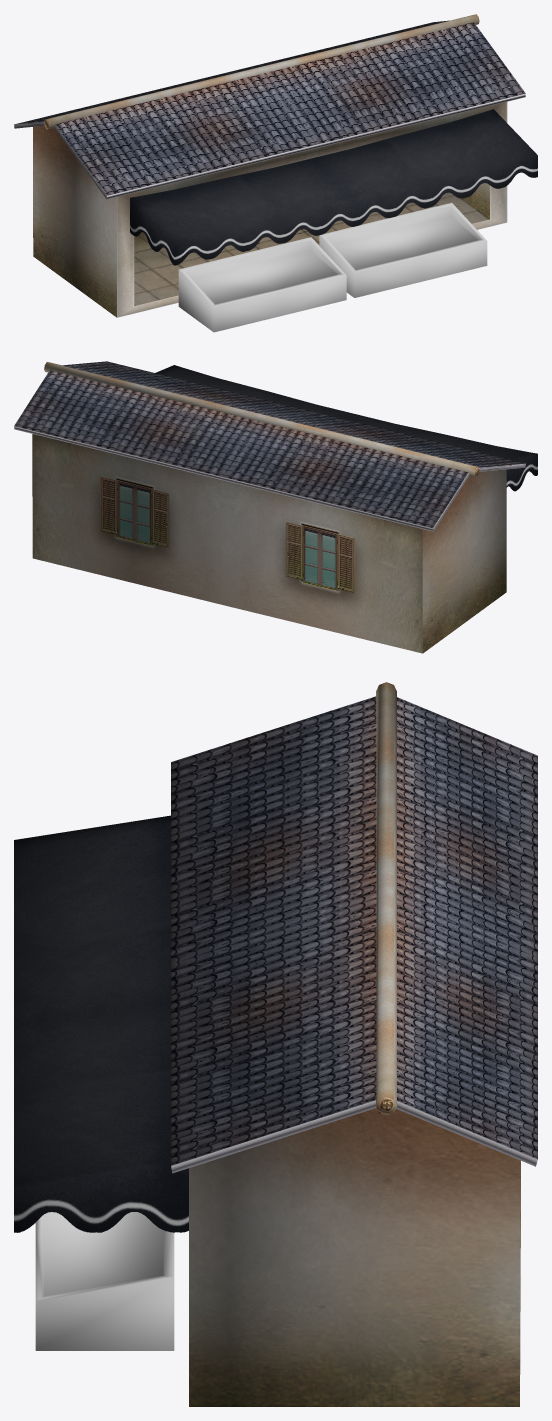
File: FFP_House_05.fbx
The picture shows the model from 3 angles, top to bottom: view 1: azimuth 30°, elevation 25°; view 2: azimuth 150°, elevation 25°; view 3: azimuth 270°, elevation 25°; orthographic projection. The views are drawn at different scales.
Visible parts, largest first — view 1: polySurface304, polySurface305; view 2: polySurface304, polySurface305; view 3: polySurface304, polySurface305.
Part boxes in pixels (<box>): polySurface304: <box>14,14,525,332</box>; polySurface305: <box>130,109,537,265</box>; polySurface304: <box>14,361,525,653</box>; polySurface305: <box>155,365,537,491</box>; polySurface304: <box>35,682,537,1406</box>; polySurface305: <box>14,815,188,1232</box>.
Size of the model in its own units: 20.7 by 7.69 by 11.06.
